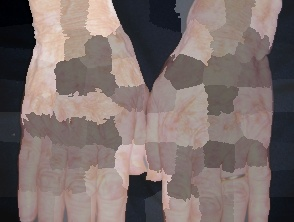vitiligo: (155, 15, 271, 220), (17, 10, 135, 202)
